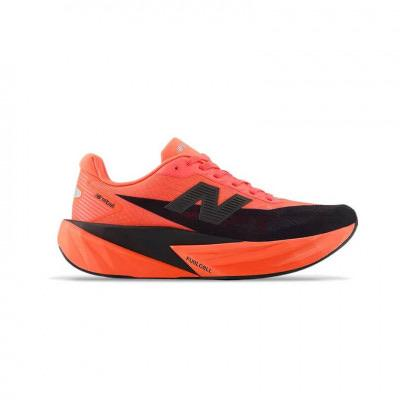NB logo: (159, 174, 258, 228)
